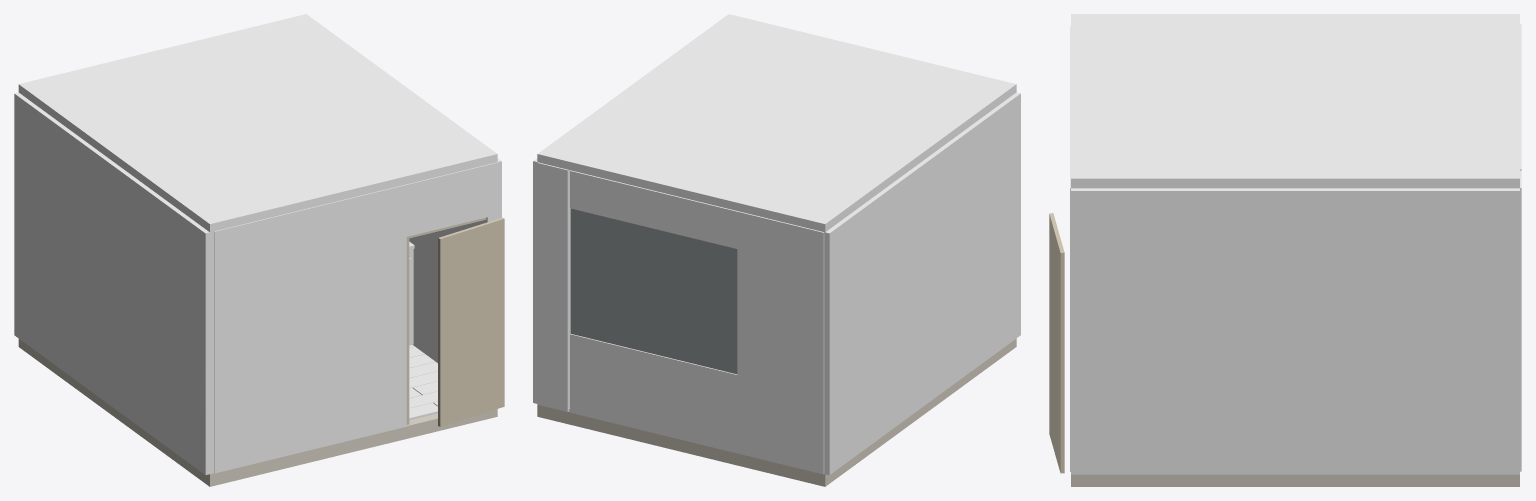
The model's file is my-room.glb.
3 views of the same model, side by side, from view 1: azimuth 30°, elevation 25°; view 2: azimuth 150°, elevation 25°; view 3: azimuth 270°, elevation 25° (orthographic). The views are drawn at different scales.
Parts seen in each view (by area): view 1: Interior shell / Ceiling, Architecture / Left cutaway wall, Interior shell / Entrance wall left, Interior shell / Door beyond, Architecture / Floating foundation, Interior shell / Entrance header, Interior shell / Right plaster wall, Interior shell / Door left jamb; view 2: Interior shell / Ceiling, Architecture / Left cutaway wall, Architecture / Rear wall left, Architecture / Window dark exterior, Architecture / Window parapet, Architecture / Rear wall right, Architecture / Window lintel, Architecture / Floating foundation, Interior shell / Right plaster wall; view 3: Interior shell / Right plaster wall, Interior shell / Ceiling, Architecture / Right wall return, Architecture / Floating foundation, Interior shell / Door beyond, Architecture / Rear wall right.
Part boxes in pixels (bbox=[...]): Interior shell / Ceiling: bbox=[18, 14, 497, 232]; Architecture / Left cutaway wall: bbox=[14, 92, 214, 475]; Interior shell / Entrance wall left: bbox=[214, 184, 406, 473]; Interior shell / Door beyond: bbox=[438, 217, 504, 426]; Architecture / Floating foundation: bbox=[18, 339, 497, 486]; Interior shell / Entrance header: bbox=[406, 163, 493, 236]; Interior shell / Right plaster wall: bbox=[409, 158, 501, 362]; Interior shell / Door left jamb: bbox=[406, 236, 409, 424]; Interior shell / Ceiling: bbox=[537, 14, 1016, 232]; Architecture / Left cutaway wall: bbox=[824, 92, 1020, 475]; Architecture / Rear wall left: bbox=[737, 211, 824, 474]; Architecture / Window dark exterior: bbox=[570, 208, 737, 374]; Architecture / Window parapet: bbox=[570, 333, 737, 453]; Architecture / Rear wall right: bbox=[537, 162, 570, 411]; Architecture / Window lintel: bbox=[570, 170, 737, 248]; Architecture / Floating foundation: bbox=[537, 338, 1016, 486]; Interior shell / Right plaster wall: bbox=[533, 159, 537, 403]; Interior shell / Right plaster wall: bbox=[1071, 188, 1519, 474]; Interior shell / Ceiling: bbox=[1071, 14, 1519, 188]; Architecture / Right wall return: bbox=[1452, 188, 1516, 474]; Architecture / Floating foundation: bbox=[1071, 474, 1519, 486]; Interior shell / Door beyond: bbox=[1049, 213, 1064, 473]; Architecture / Rear wall right: bbox=[1520, 170, 1521, 471].
Bounding box in the file's own units: 3.4 × 2.88 × 4.
